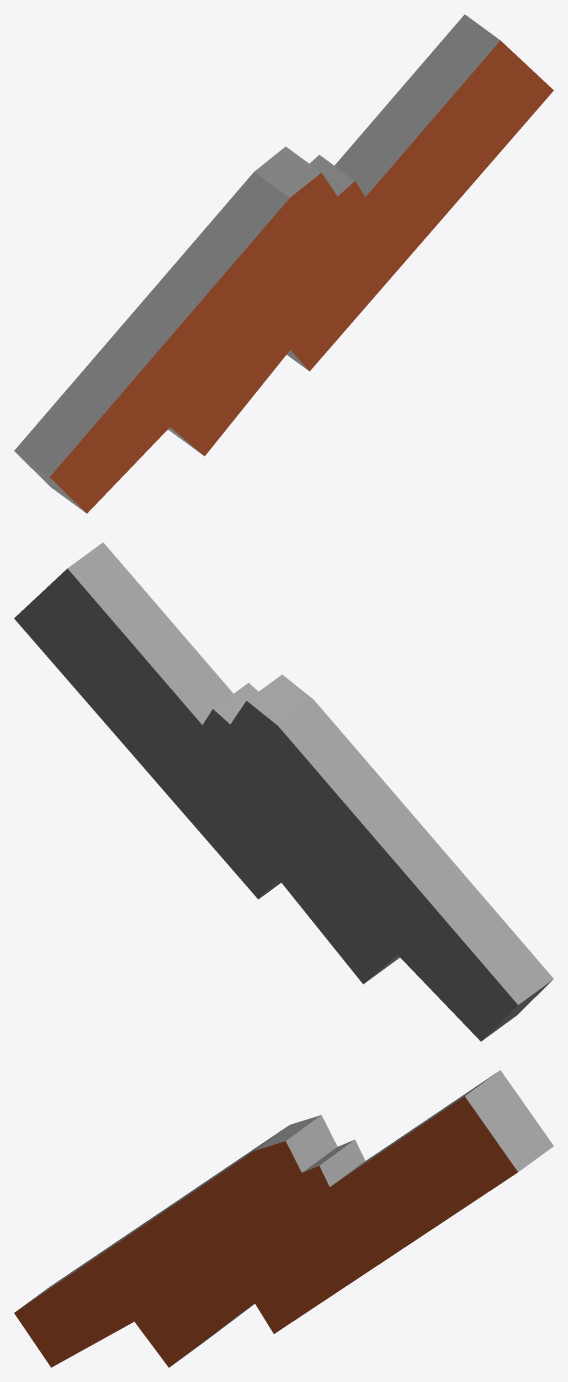
File: construction_6408_assumed_A_Casa_h6m.obj
The picture shows the model from 3 angles, top to bottom: view 1: azimuth 30°, elevation 25°; view 2: azimuth 150°, elevation 25°; view 3: azimuth 330°, elevation 25°; orthographic projection.
Parts seen in each view (by area): view 1: construction_6408_assumed_A_Casa; view 2: construction_6408_assumed_A_Casa; view 3: construction_6408_assumed_A_Casa.
Boxes of the visible parts, box(x1,y1,x2,y2) form: construction_6408_assumed_A_Casa: box(14, 14, 553, 513); construction_6408_assumed_A_Casa: box(14, 542, 553, 1041); construction_6408_assumed_A_Casa: box(14, 1070, 553, 1367).
Size of the model in its own units: 48.85 by 34.47 by 6.
